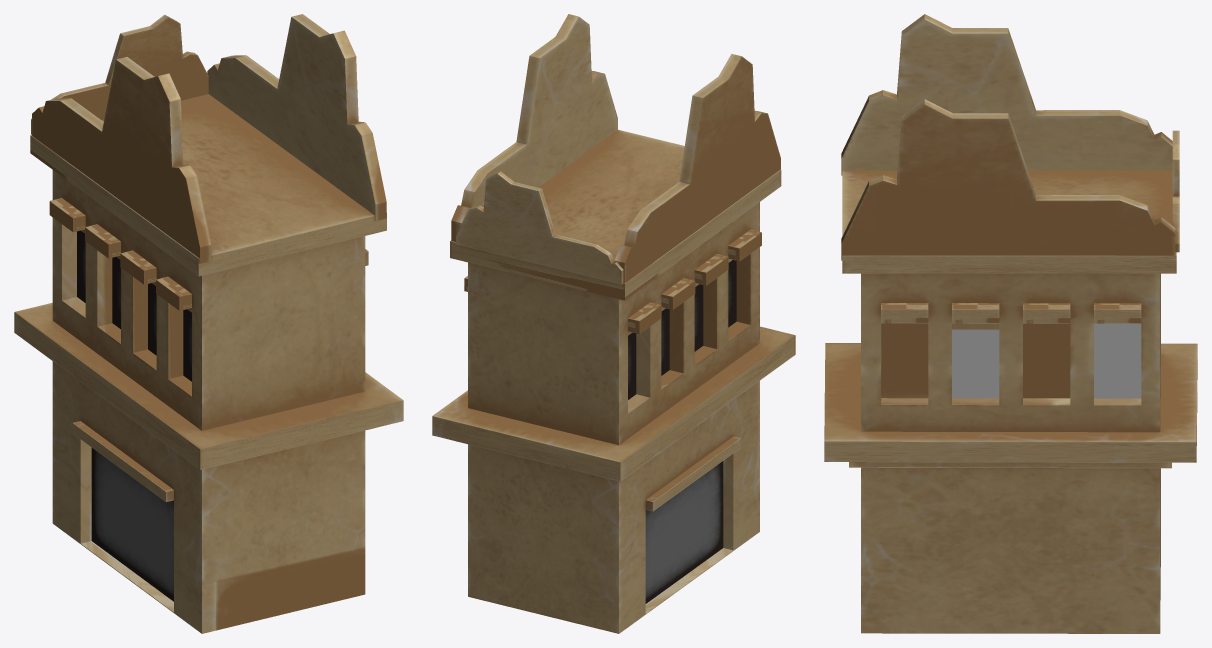
The model's file is Bangunan Terbengkalai 3.fbx.
3 renders of one model, left to right at view 1: azimuth 30°, elevation 25°; view 2: azimuth 150°, elevation 25°; view 3: azimuth 270°, elevation 25°, orthographic. The views are drawn at different scales.
Visible parts, largest first — view 1: Cube.003, Cube.006, Plane.002, Cube, Cube.005, Plane.001, Cube.008, Cube.009; view 2: Cube.003, Cube.006, Plane.002, Cube, Cube.005, Plane.001, Cube.008, Cube.009; view 3: Plane.002, Cube.003, Cube.006, Cube.005, Cube, Cube.008, Cube.004, Plane.001.
Part boxes in pixels (bbox=[...]): Cube.003: bbox=[52, 361, 365, 633]; Cube.006: bbox=[52, 170, 365, 430]; Plane.002: bbox=[32, 14, 386, 263]; Cube: bbox=[30, 94, 386, 276]; Cube.005: bbox=[14, 302, 403, 469]; Plane.001: bbox=[31, 14, 208, 134]; Cube.008: bbox=[49, 198, 368, 310]; Cube.009: bbox=[72, 421, 173, 501]; Cube.003: bbox=[468, 381, 759, 633]; Cube.006: bbox=[468, 202, 759, 445]; Plane.002: bbox=[451, 14, 780, 283]; Cube: bbox=[450, 129, 781, 300]; Cube.005: bbox=[432, 326, 795, 481]; Plane.001: bbox=[456, 171, 623, 284]; Cube.008: bbox=[464, 229, 761, 334]; Cube.009: bbox=[645, 436, 740, 511]; Plane.002: bbox=[841, 14, 1175, 260]; Cube.003: bbox=[861, 467, 1160, 633]; Cube.006: bbox=[861, 273, 1160, 432]; Cube.005: bbox=[824, 343, 1197, 462]; Cube: bbox=[842, 170, 1176, 273]; Cube.008: bbox=[881, 303, 1141, 323]; Cube.004: bbox=[849, 462, 1171, 468]; Plane.001: bbox=[1172, 130, 1179, 252].
Size of the model in its own units: 251 by 631 by 399.
Materials: 2 (2 with a texture image).
